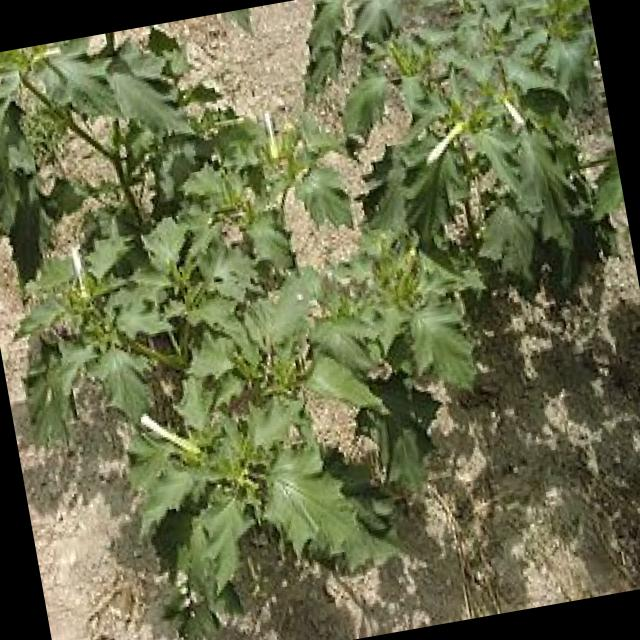Poisonous-Datura_Stramonium: (31, 216, 424, 640), (0, 9, 324, 347), (313, 0, 633, 301)
